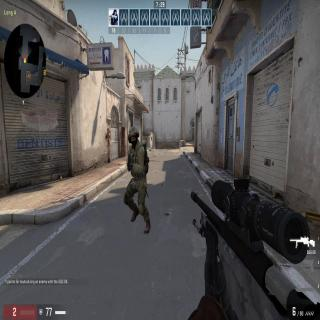CT-Body: (122, 125, 152, 226)
CT-Head: (127, 126, 140, 146)
